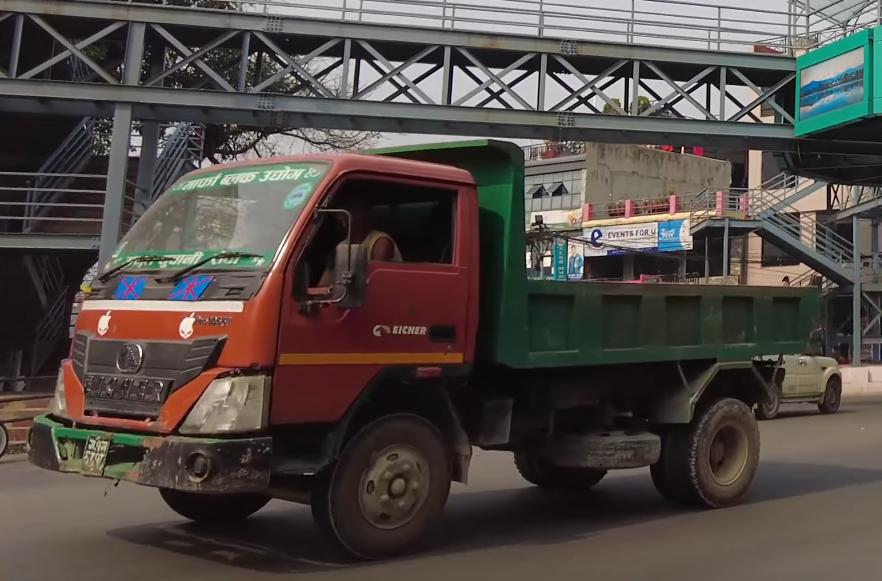mini_truck: (22, 135, 824, 581)
